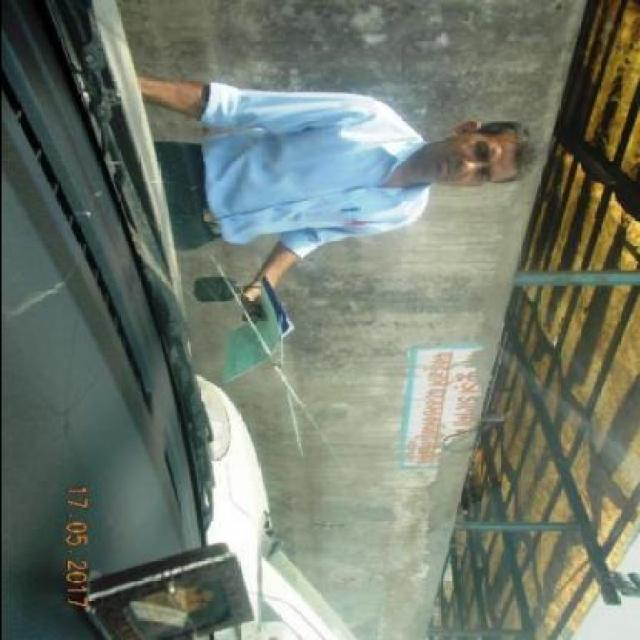damage: (246, 303, 277, 341), (206, 257, 241, 290), (267, 362, 295, 395), (287, 406, 306, 434), (290, 442, 318, 458)
